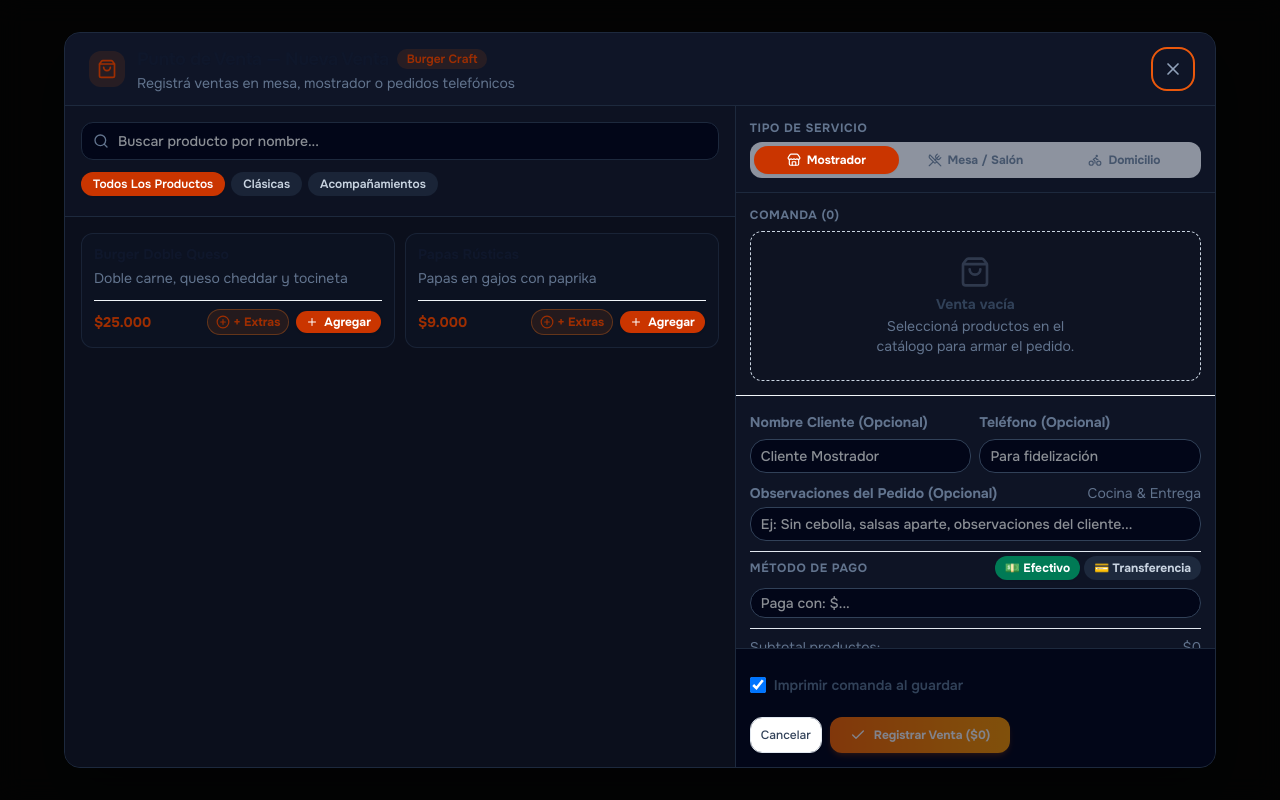
Test: ManualSaleModal - Point of Sale (POS) Component › displays transfer receipt upload area when selecting Transferencia payment method
The image size is (1280, 800).
Click the button "💳 Transferencia".
click(1143, 568)  # box [1084,556,1201,580]
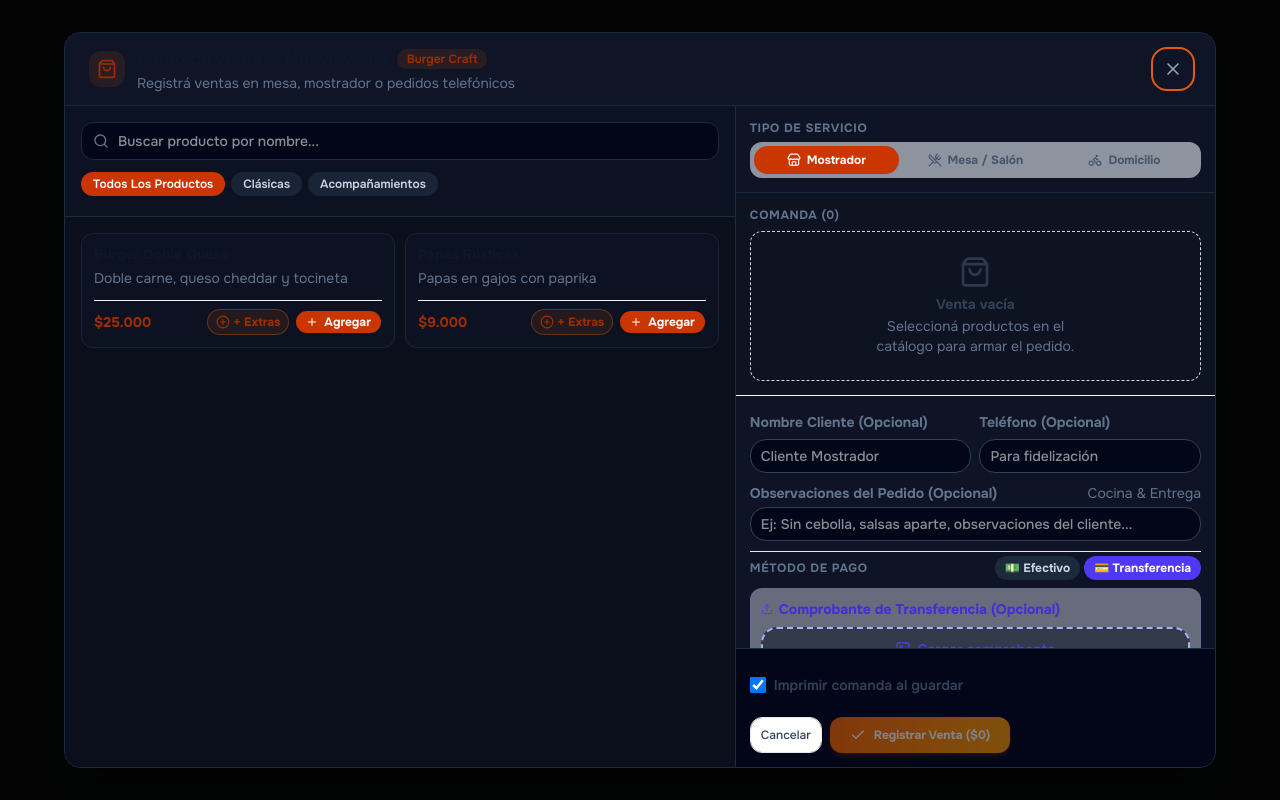
Check: the field with placeholder "Buscar producto por nombre..." is shown, box [81,122,719,160]
Check: the text "Comprobante de Transferencia (Opcional)" is shown, box [779,599,1060,619]
